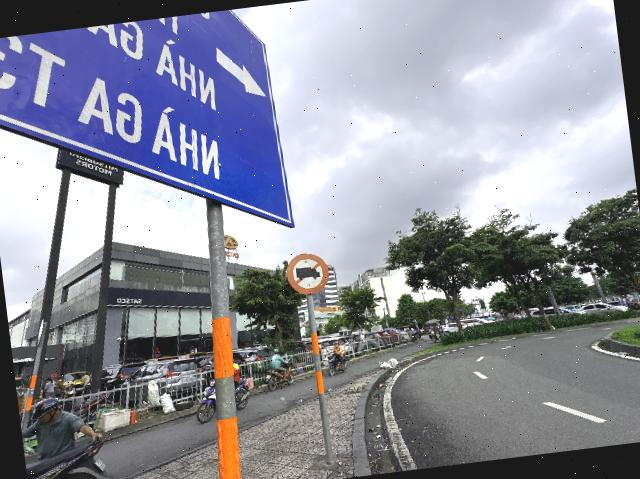cam-xe-tai: (284, 250, 330, 297)
